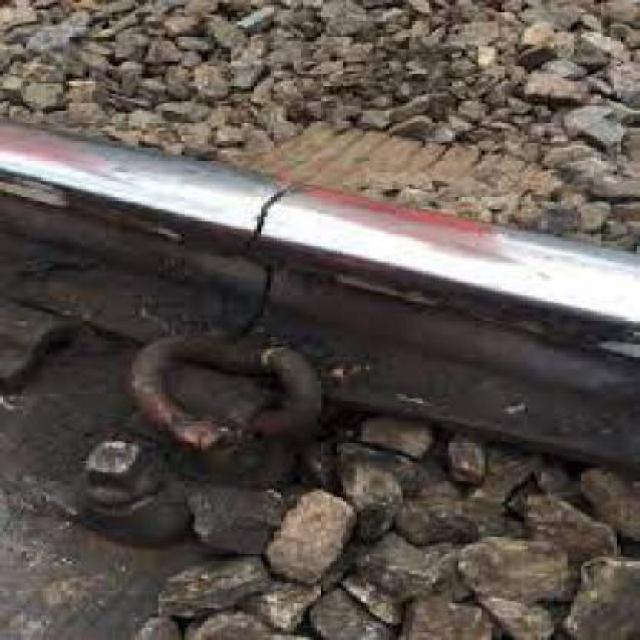defective: (85, 91, 580, 505)
